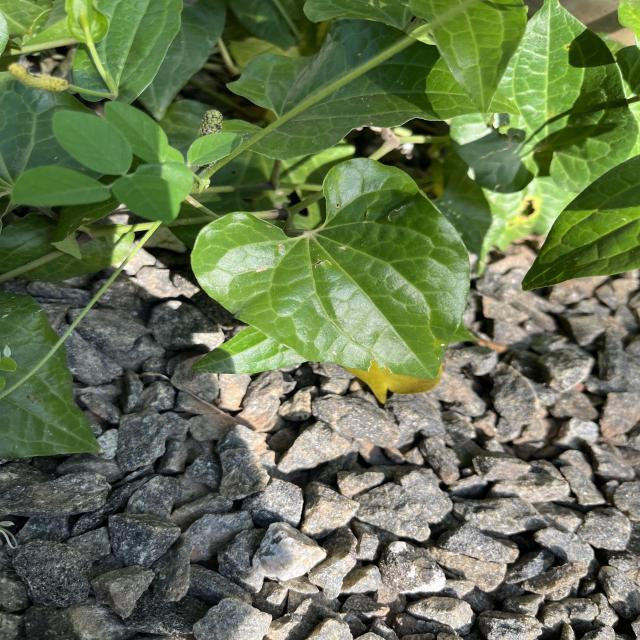Piper longum: (188, 156, 474, 382)
